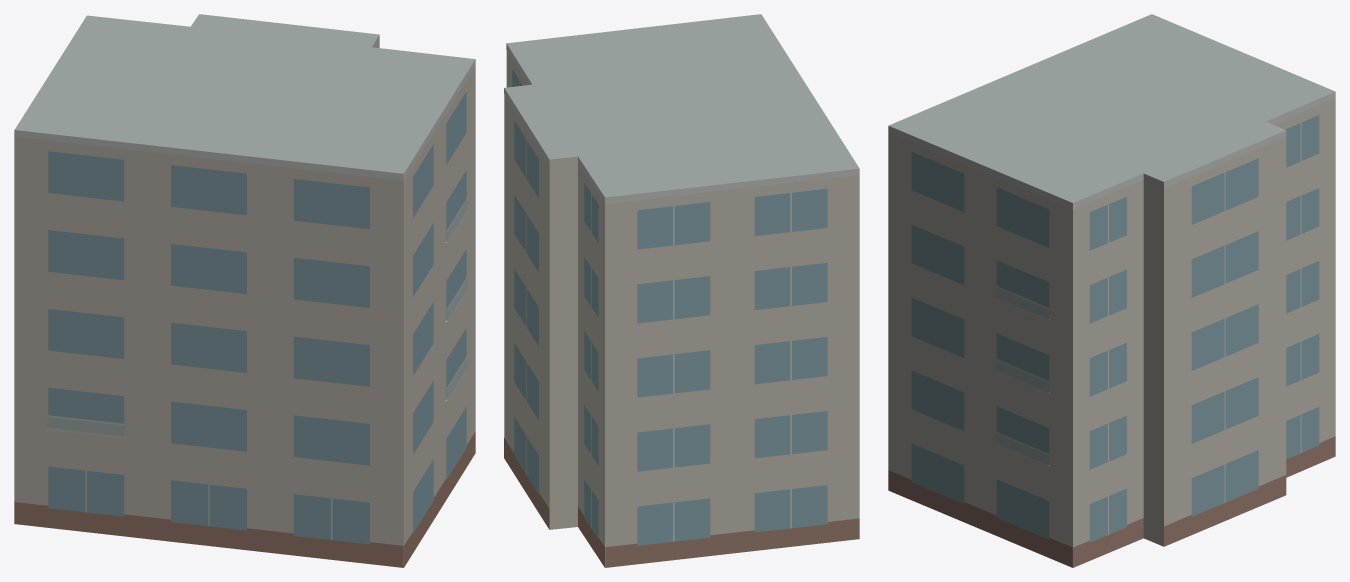
The model's file is survey-upis-32977639.glb.
3 renders of one model, left to right at view 1: azimuth 30°, elevation 25°; view 2: azimuth 150°, elevation 25°; view 3: azimuth 270°, elevation 25°, orthographic. The views are drawn at different scales.
Parts seen in each view (by area): view 1: survey-upis-32977639.tmp; view 2: survey-upis-32977639.tmp; view 3: survey-upis-32977639.tmp.
Part boxes in pixels (x1,y1,x2,y2): survey-upis-32977639.tmp: (14, 14, 475, 567); survey-upis-32977639.tmp: (504, 14, 859, 567); survey-upis-32977639.tmp: (888, 14, 1335, 567).
Size of the model in its own units: 15.45 by 13.9 by 15.45.
